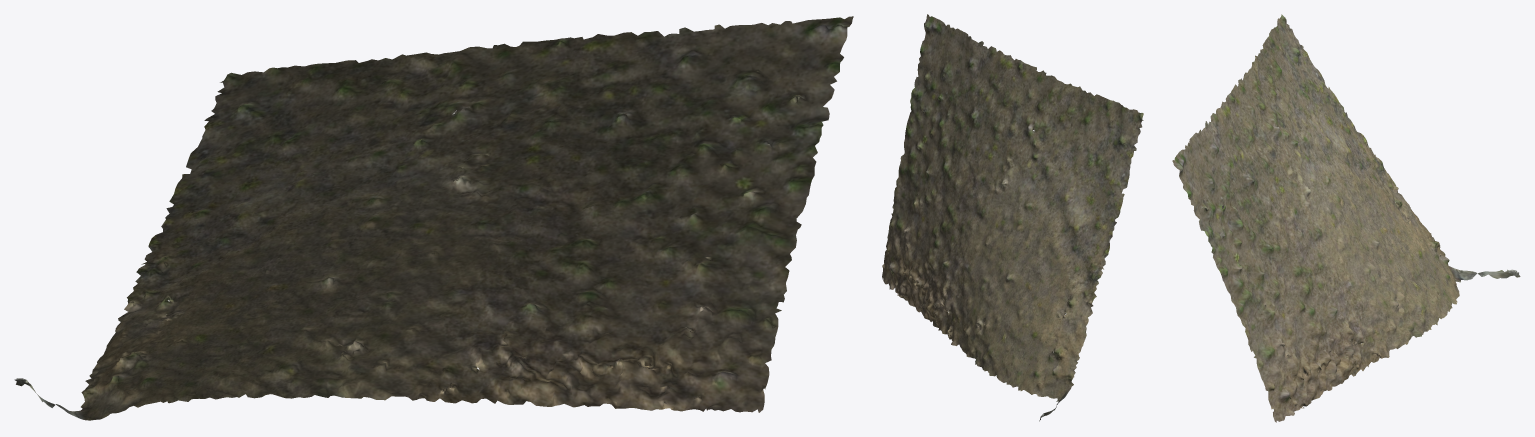
File: tile_29.obj
3 views of the same model, side by side, from view 1: azimuth 30°, elevation 25°; view 2: azimuth 150°, elevation 25°; view 3: azimuth 270°, elevation 25° (orthographic). The views are drawn at different scales.
Bounding box in the file's own units: 1.14 × 0.9495 × 1.13.
1 material, 1 textured.
